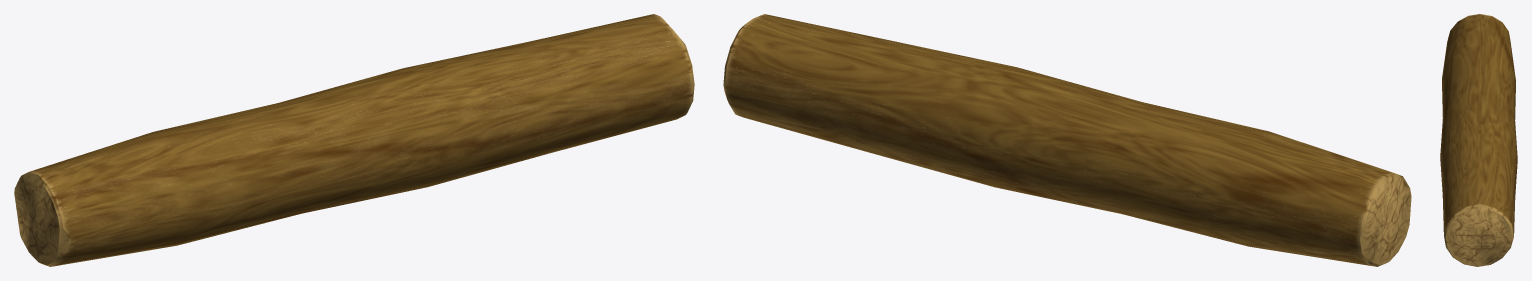
Rendered from Log1.fbx.
3 views of the same model, side by side, from view 1: azimuth 30°, elevation 25°; view 2: azimuth 150°, elevation 25°; view 3: azimuth 270°, elevation 25° (orthographic). The views are drawn at different scales.
Visible parts, largest first — view 1: Log1_LOD0; view 2: Log1_LOD0; view 3: Log1_LOD0.
Boxes of the visible parts, x1=… form: Log1_LOD0: x1=14, y1=14, x2=694, y2=266; Log1_LOD0: x1=723, y1=14, x2=1411, y2=266; Log1_LOD0: x1=1440, y1=14, x2=1517, y2=266.
Size of the model in its own units: 208 by 34.62 by 34.62.
Materials: 1 (1 with a texture image).
